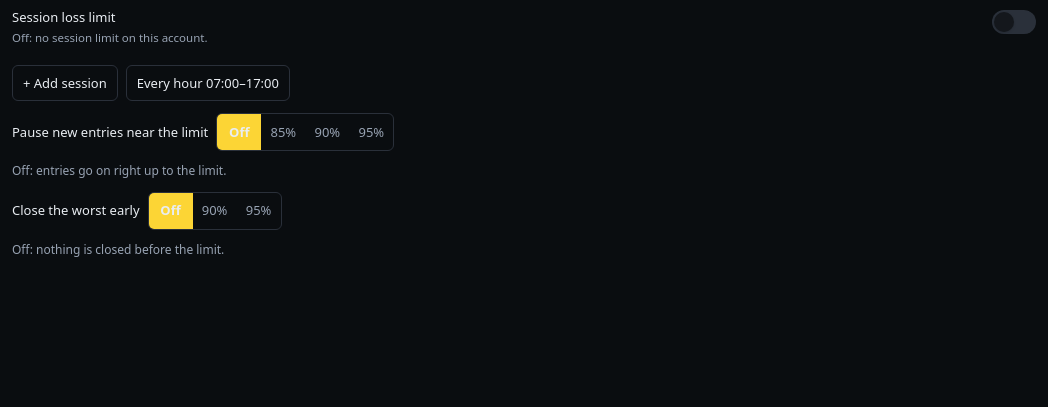
Test: Session loss limit › a session that ends before it starts is said, and cannot be saved
The width and height of the screenshot is (1048, 407).
Expected: the switch named "Session loss limit" is shown, [992,10,1036,34]
Click the button "+ Add session" at {"x": 65, "y": 83}, box [12,65,118,101]
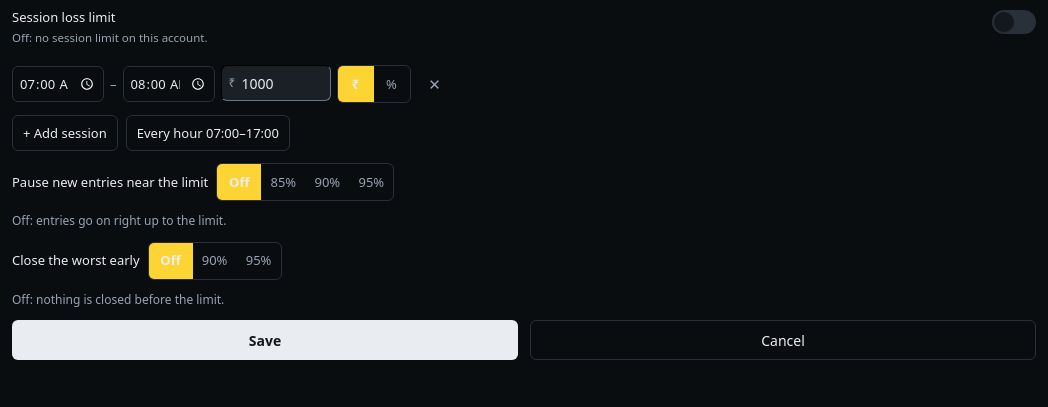
Replace the text in the time field named "Session 1 to" with "06:00" at {"x": 168, "y": 84}, box [122,66,214,102]
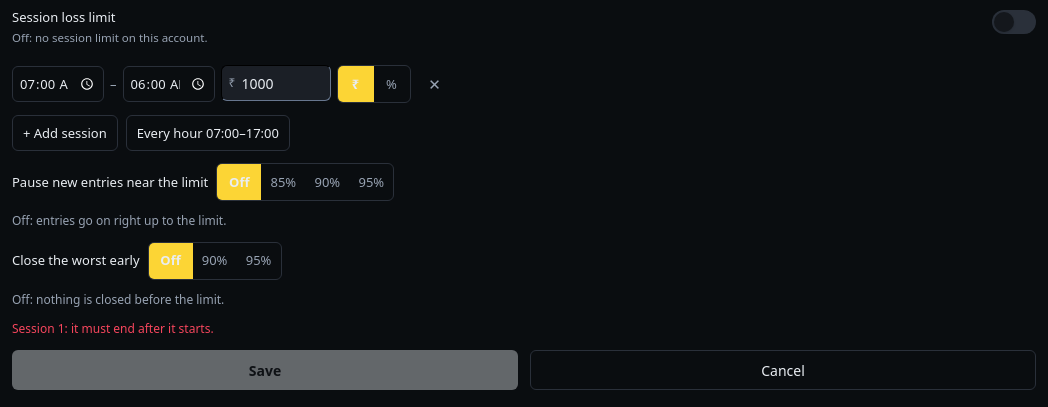
Now the message reads "Session 1: it must end after it starts.", box [12,320,214,337]
Now the button "Save" is disabled, box [12,350,518,390]
